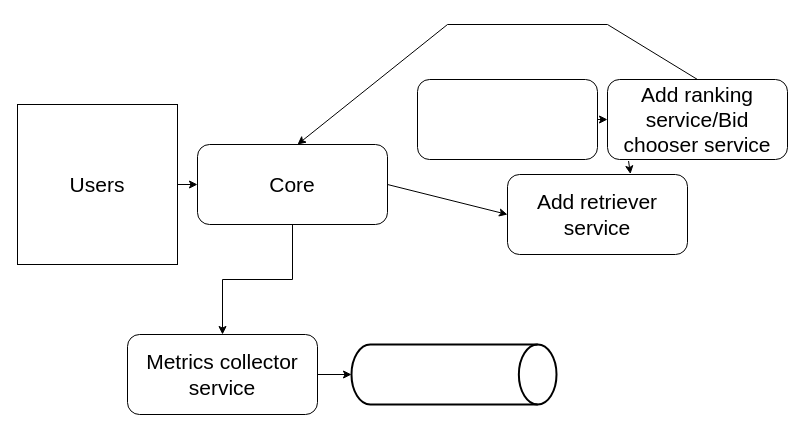
The diagram is 805 pixels wide and 432 high, and some of its shapes have lost their labels. Here are the shapes that lost their labels. From the top down, the centre of each, then its label:
(507,119): Add service/Auction service
(453,374): Event queue
